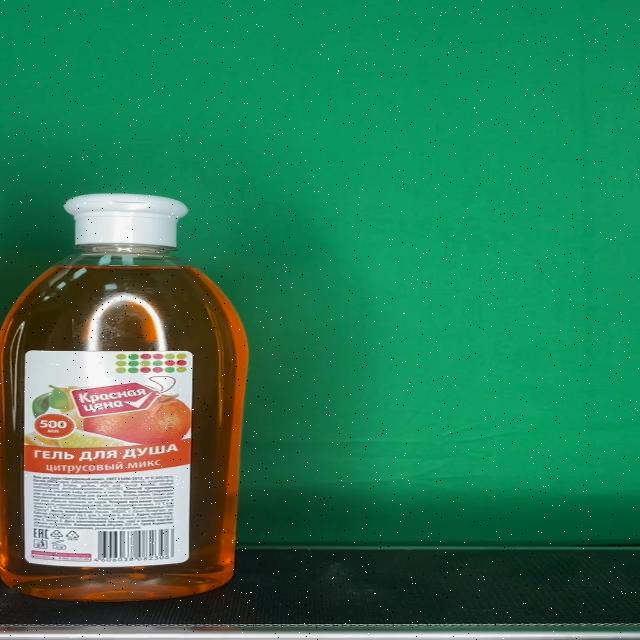Bottle: (0, 194, 250, 601)
Cap: (64, 194, 186, 247)
